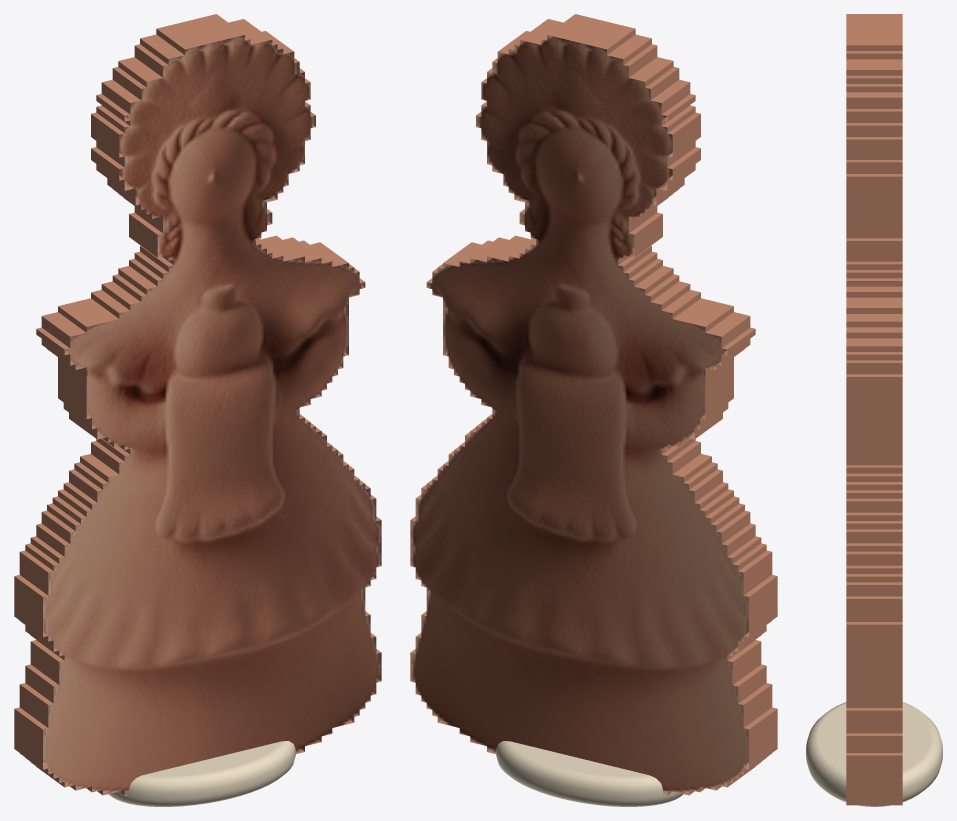
The model's file is ar-clay-lady2.glb.
3 renders of one model, left to right at view 1: azimuth 30°, elevation 25°; view 2: azimuth 150°, elevation 25°; view 3: azimuth 270°, elevation 25°, orthographic.
Parts seen in each view (by area): view 1: ToyArtworkSilhouette, SmallRoundedDisplayFoot; view 2: ToyArtworkSilhouette, SmallRoundedDisplayFoot; view 3: ToyArtworkSilhouette, SmallRoundedDisplayFoot.
Boxes of the visible parts, left/top/right/bottom form: ToyArtworkSilhouette: left=14, top=14, right=381, bottom=795; SmallRoundedDisplayFoot: left=108, top=741, right=295, bottom=806; ToyArtworkSilhouette: left=410, top=14, right=777, bottom=795; SmallRoundedDisplayFoot: left=496, top=741, right=683, bottom=806; ToyArtworkSilhouette: left=846, top=14, right=902, bottom=805; SmallRoundedDisplayFoot: left=806, top=702, right=942, bottom=806.
Size of the model in its own units: 0.0961 by 0.202 by 0.034.
Materials: 3 (1 with a texture image).
